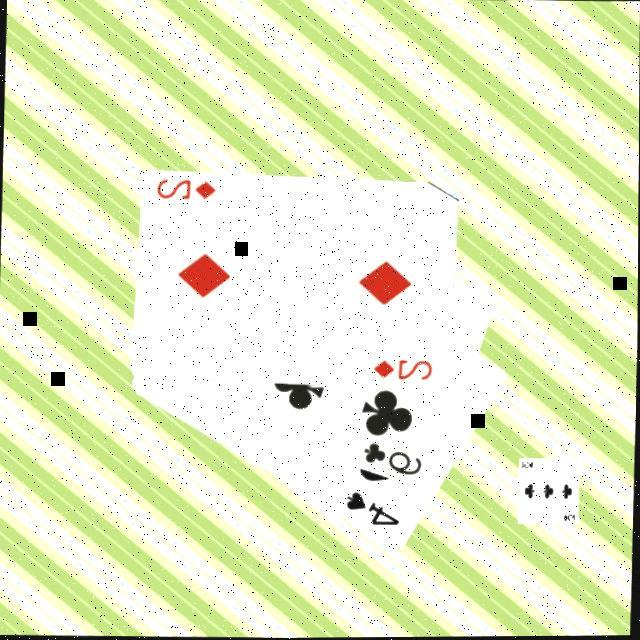2D: (153, 178, 220, 205), (372, 359, 437, 386)
4S: (344, 491, 404, 532)
6C: (361, 441, 427, 482)
